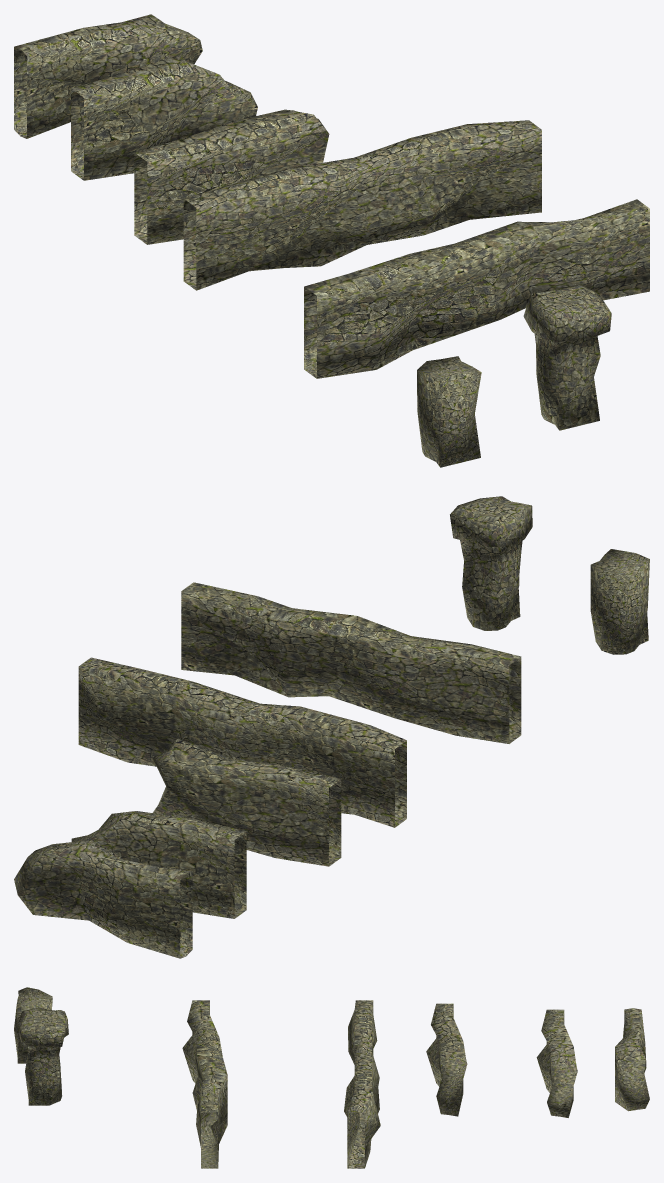
Rendered from WallRuins.FBX.
3 renders of one model, top to bottom at view 1: azimuth 30°, elevation 25°; view 2: azimuth 150°, elevation 25°; view 3: azimuth 270°, elevation 25°, orthographic. The views are drawn at different scales.
Parts seen in each view (by area): view 1: Object085, Box132, Object088, Object086, Object087, Box131, Box135; view 2: Box132, Object085, Object086, Object087, Object088, Box131, Box135; view 3: Box132, Object085, Box131, Object086, Object088, Object087, Box135.
Part boxes in pixels (x1,y1,x2,y2): Object085: (183,120,541,290); Box132: (304,199,649,378); Object088: (71,56,257,180); Object086: (134,109,329,244); Object087: (14,14,202,138); Box131: (523,284,611,430); Box135: (417,356,481,467); Box132: (181,582,521,743); Object085: (78,657,406,827); Object086: (152,738,341,866); Object087: (14,840,192,958); Object088: (71,811,246,918); Box131: (450,496,532,630); Box135: (590,549,649,654); Box132: (182,1000,227,1168); Object085: (344,1000,380,1168); Box131: (19,1007,68,1105); Object086: (426,1003,467,1116); Object088: (536,1009,577,1117); Object087: (615,1008,649,1111); Box135: (14,987,52,1063).
Size of the model in its own units: 248 by 91.87 by 574.
